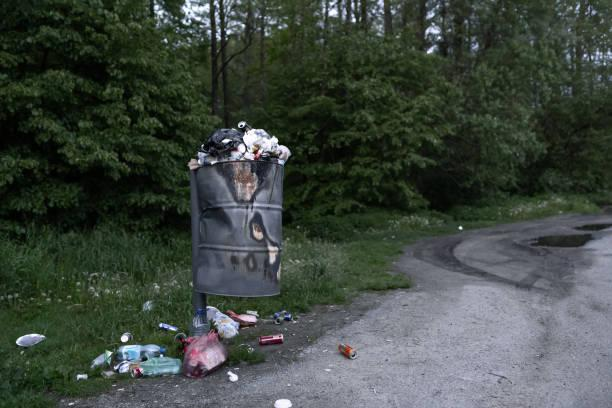trash: (192, 121, 292, 170), (189, 333, 229, 379), (203, 306, 244, 339), (13, 326, 53, 354), (127, 360, 186, 378), (230, 304, 264, 329), (187, 305, 207, 346), (123, 343, 173, 359), (330, 341, 360, 361), (108, 362, 136, 379), (276, 304, 295, 328), (87, 351, 114, 367), (261, 331, 289, 346), (117, 329, 139, 345), (175, 327, 186, 357), (159, 319, 179, 334)
trash_can_overflow: (138, 94, 296, 401)
